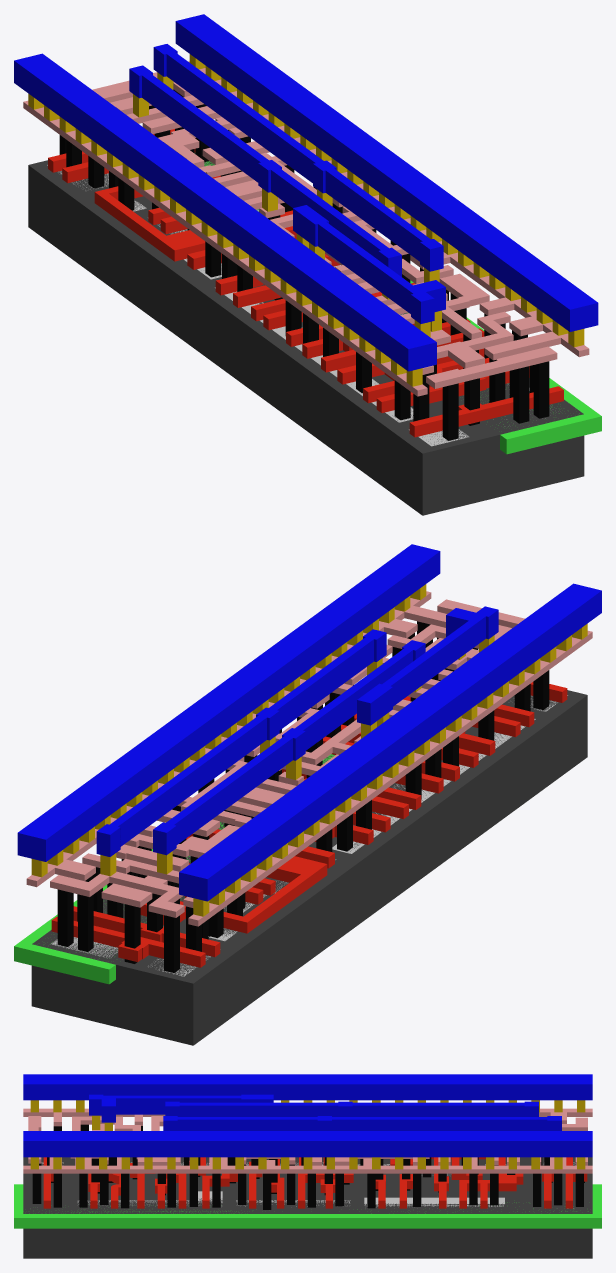
Rendered from sky130_fd_sc_hd__sdfrtn_1.obj.
The picture shows the model from 3 angles, top to bottom: view 1: azimuth 30°, elevation 25°; view 2: azimuth 150°, elevation 25°; view 3: azimuth 270°, elevation 25°; orthographic projection. The views are drawn at different scales.
Visible parts, largest first — view 1: metal1, subs, li, poly, licon, mcon, nwell, diff; view 2: metal1, subs, li, poly, licon, mcon, nwell, diff; view 3: metal1, subs, nwell, li, licon, poly, mcon, tap.
Part boxes in pixels (left/top/right/bottom): metal1: left=14, top=14, right=598, bottom=371; subs: left=28, top=153, right=584, bottom=515; li: left=23, top=61, right=589, bottom=396; poly: left=48, top=129, right=563, bottom=437; licon: left=59, top=89, right=549, bottom=440; mcon: left=28, top=54, right=584, bottom=386; nwell: left=204, top=161, right=601, bottom=454; diff: left=47, top=165, right=468, bottom=446; metal1: left=17, top=544, right=601, bottom=901; subs: left=31, top=690, right=587, bottom=1045; li: left=26, top=591, right=592, bottom=926; poly: left=51, top=682, right=567, bottom=967; licon: left=57, top=621, right=549, bottom=972; mcon: left=31, top=584, right=587, bottom=916; nwell: left=14, top=754, right=334, bottom=984; diff: left=148, top=695, right=567, bottom=976; metal1: left=23, top=1074, right=592, bottom=1157; subs: left=23, top=1157, right=592, bottom=1258; nwell: left=14, top=1184, right=601, bottom=1228; li: left=23, top=1108, right=592, bottom=1173; licon: left=32, top=1124, right=584, bottom=1209; poly: left=43, top=1157, right=587, bottom=1208; mcon: left=30, top=1100, right=585, bottom=1169; tap: left=77, top=1191, right=573, bottom=1208.
Size of the model in its own units: 3.2 by 2.74 by 11.88.
